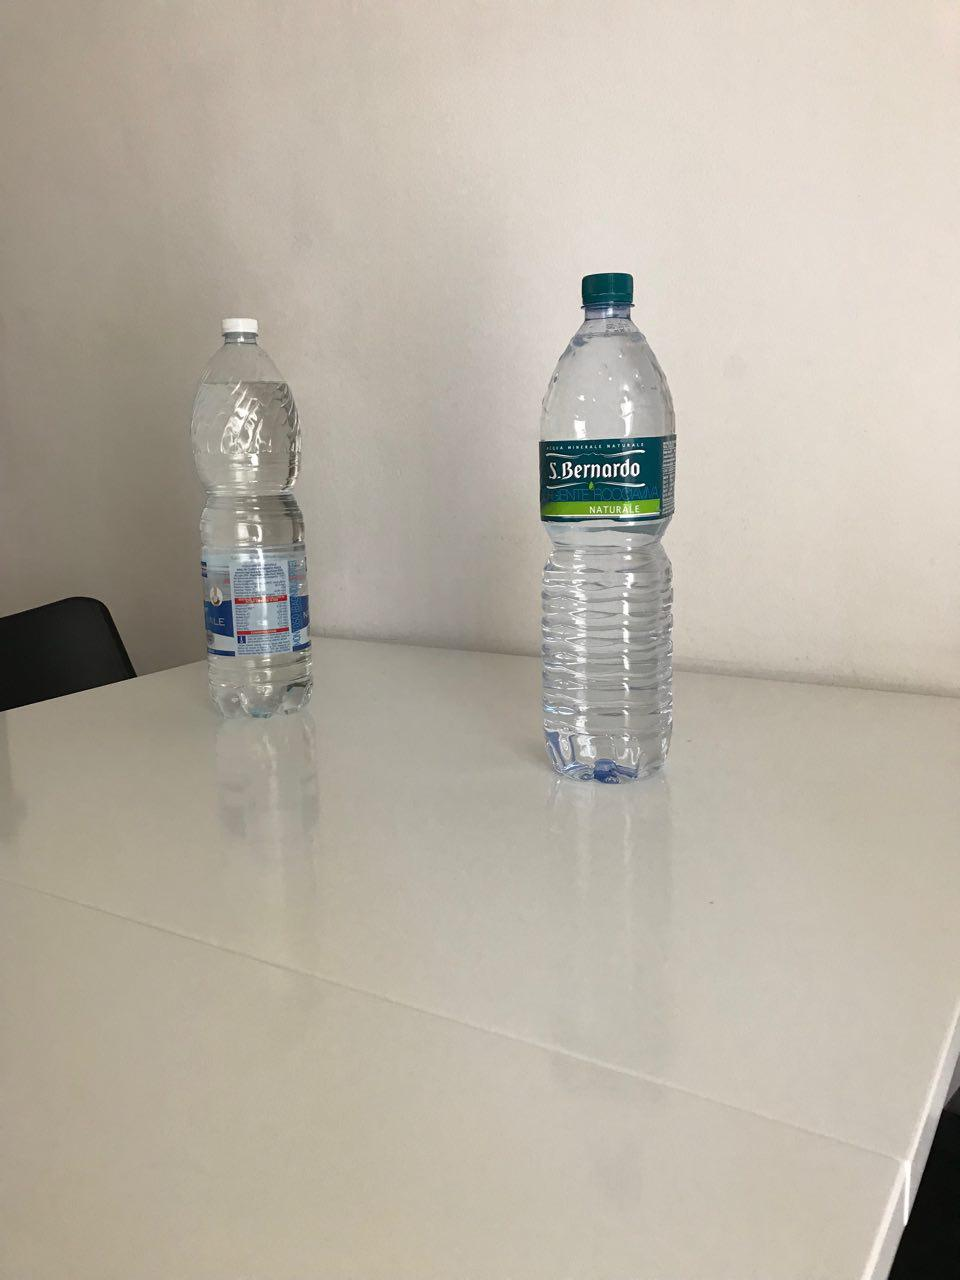san_bernardo: (537, 272, 677, 784)
